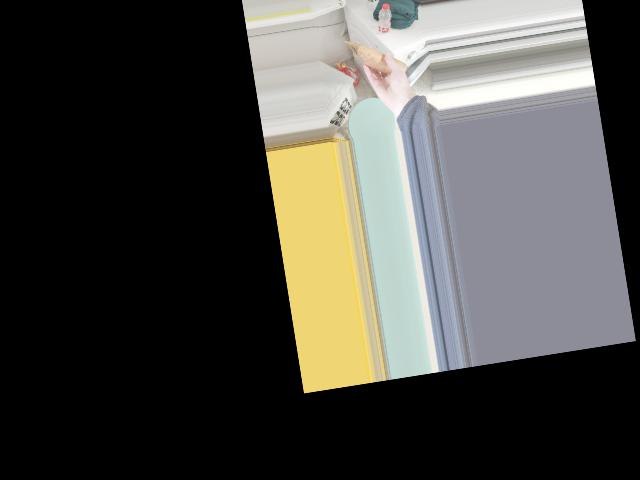sweet_potato: (366, 46, 406, 83)
